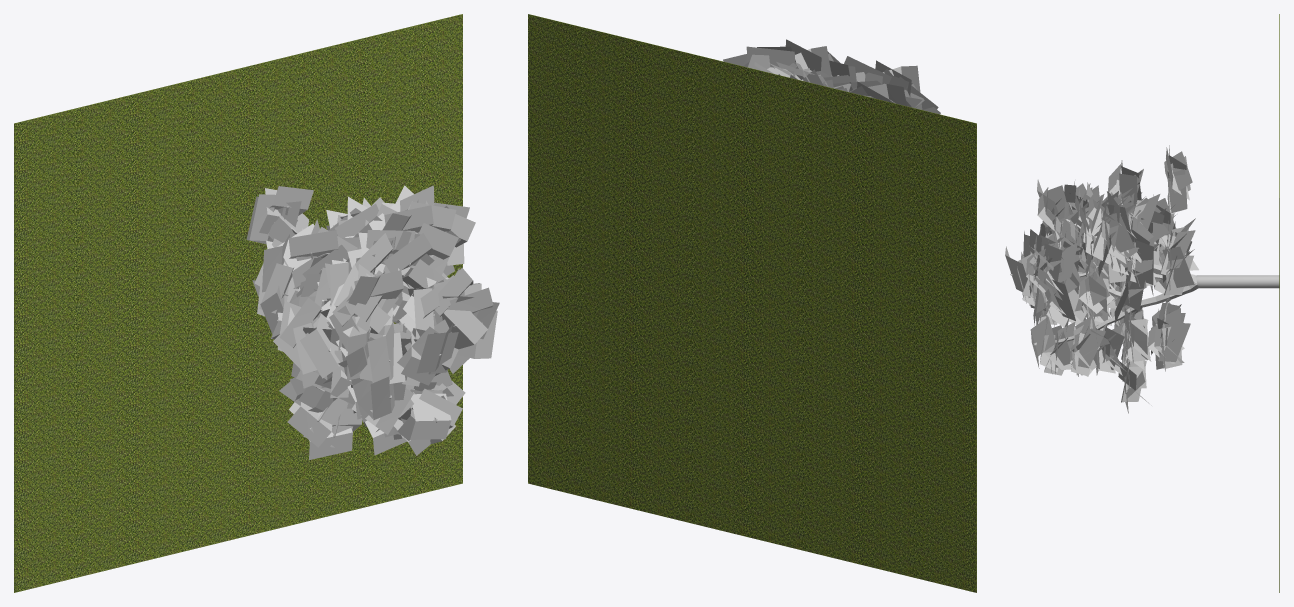
Rendered from single_tree.obj.
The picture shows the model from 3 angles, left to right: view 1: azimuth 30°, elevation 25°; view 2: azimuth 150°, elevation 25°; view 3: azimuth 270°, elevation 25°; orthographic projection. The views are drawn at different scales.
Parts seen in each view (by area): view 1: Ground_grass, Wallnut_.002_Walnut_L; view 2: Ground_grass, Wallnut_.002_Walnut_L; view 3: Wallnut_.002_Walnut_L, Ground_grass.
Boxes of the visible parts, x1,y1,x2,y2 form: Ground_grass: (14,14,462,592); Wallnut_.002_Walnut_L: (246,185,499,459); Ground_grass: (528,14,976,592); Wallnut_.002_Walnut_L: (723,39,940,114); Wallnut_.002_Walnut_L: (1005,145,1279,413); Ground_grass: (1279,14,1279,592).
Size of the model in its own units: 10 by 10 by 6.31.
